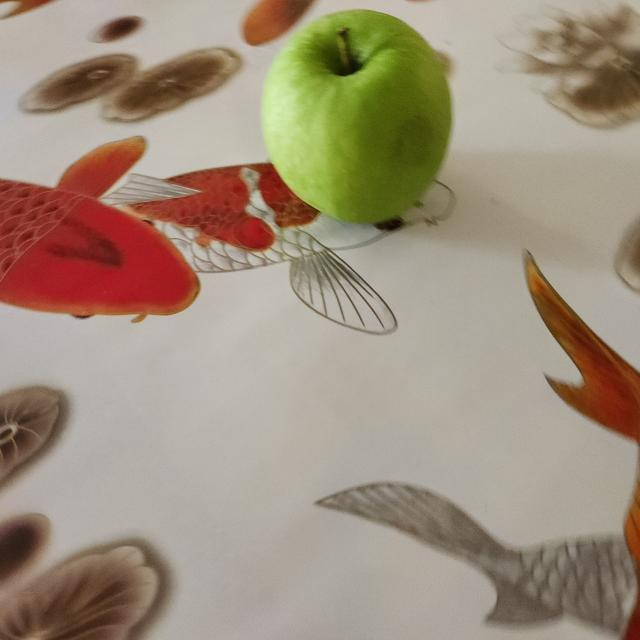apple: (256, 0, 458, 231)
